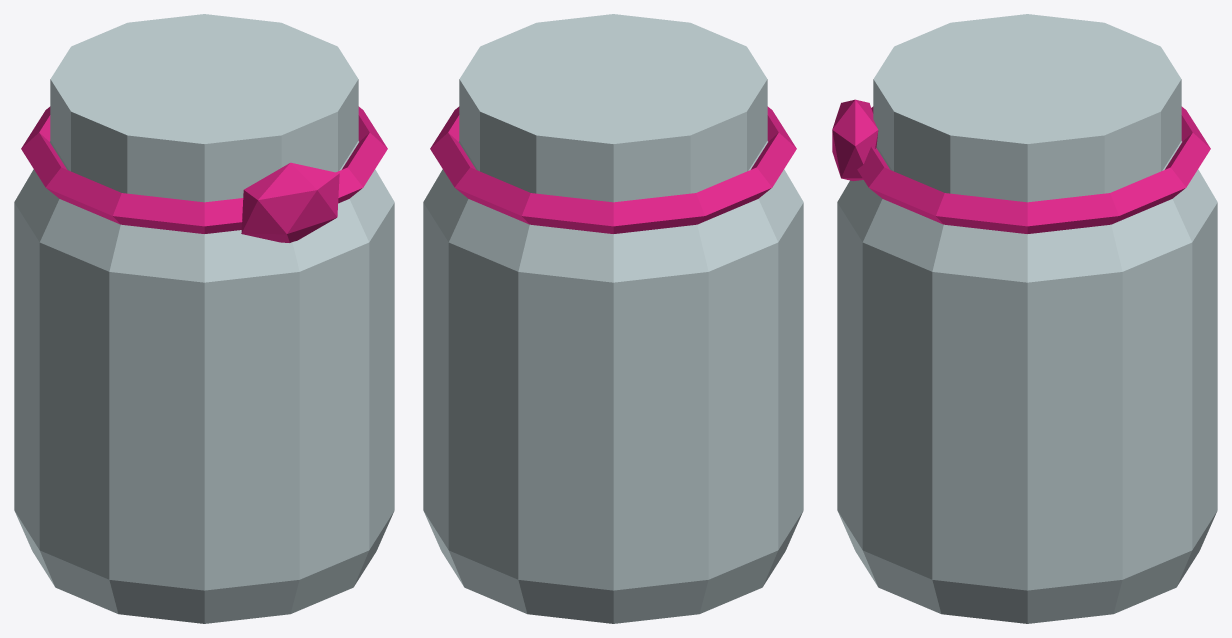
The picture shows the model from 3 angles, left to right: view 1: azimuth 30°, elevation 25°; view 2: azimuth 150°, elevation 25°; view 3: azimuth 270°, elevation 25°; orthographic projection.
Visible parts, largest first — view 1: jar, ribbon, ribbon_bow; view 2: jar, ribbon; view 3: jar, ribbon, ribbon_bow.
Boxes of the visible parts, x1,y1,x2,y2 form: jar: (14,14,394,623); ribbon: (21,106,387,233); ribbon_bow: (241,162,339,242); jar: (423,14,803,623); ribbon: (430,106,796,233); jar: (837,14,1217,623); ribbon: (857,106,1210,233); ribbon_bow: (832,99,878,181).
Bounding box in the file's own units: 0.084 × 0.115 × 0.0851.
